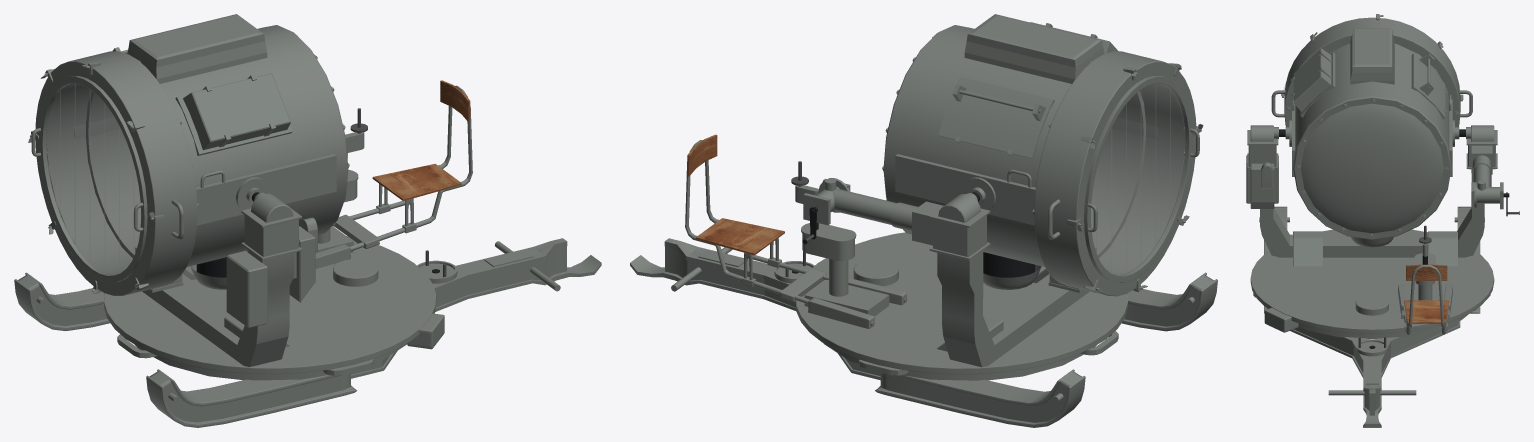
The model's file is Flaklight.fbx.
3 views of the same model, side by side, from view 1: azimuth 30°, elevation 25°; view 2: azimuth 150°, elevation 25°; view 3: azimuth 270°, elevation 25° (orthographic). The views are drawn at different scales.
Visible parts, largest first — view 1: Lightcase, UnderCarriage; view 2: Lightcase, UnderCarriage; view 3: Lightcase, UnderCarriage.
Boxes of the visible parts, x1,y1,x2,y2 form: Lightcase: [28, 14, 349, 295]; UnderCarriage: [14, 80, 601, 427]; Lightcase: [882, 14, 1203, 296]; UnderCarriage: [630, 134, 1217, 427]; Lightcase: [1271, 14, 1472, 247]; UnderCarriage: [1246, 125, 1519, 427].
Bounding box in the file's own units: 5.47 × 3.36 × 3.45.
